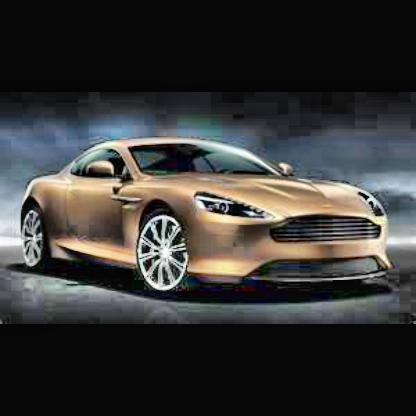Aston Martin V8 Vantage Coupe 2012: (22, 135, 397, 297)
